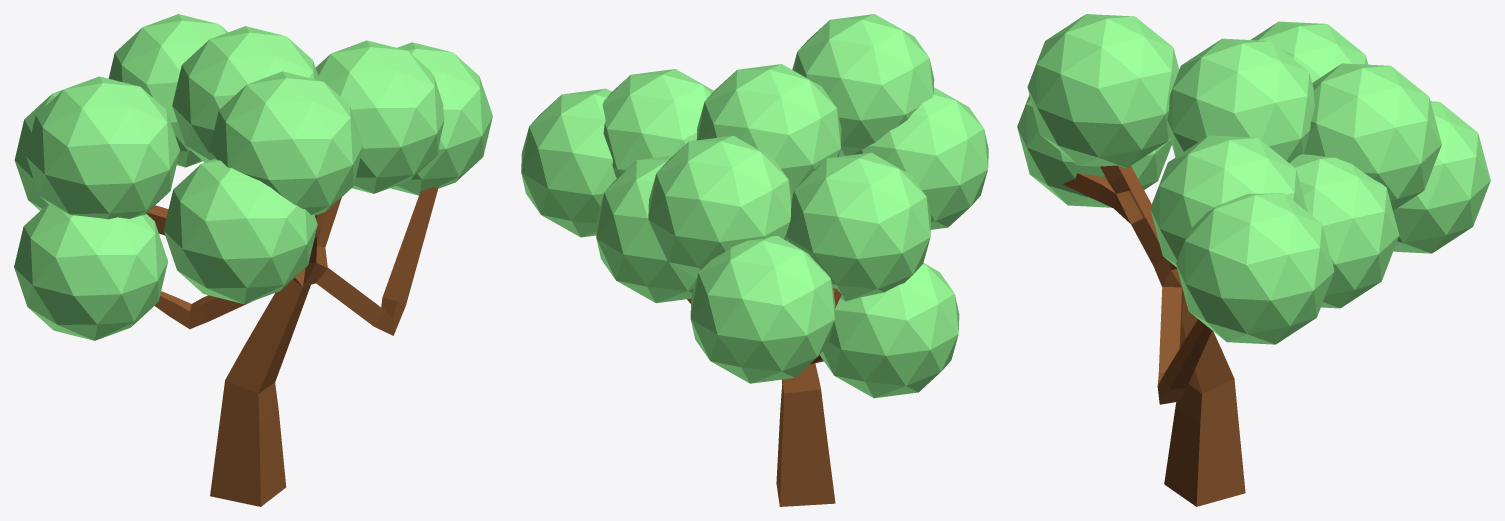
Rendered from Normaltree2.fbx.
3 views of the same model, side by side, from view 1: azimuth 30°, elevation 25°; view 2: azimuth 150°, elevation 25°; view 3: azimuth 270°, elevation 25° (orthographic). The views are drawn at different scales.
Parts seen in each view (by area): view 1: Cube.010; view 2: Cube.010; view 3: Cube.010.
Part boxes in pixels (box(x1,y1,x2,y2)): Cube.010: box(14, 14, 492, 506); Cube.010: box(521, 14, 988, 506); Cube.010: box(1017, 14, 1490, 506).
Bounding box in the file's own units: 4247 × 4135 × 3807.
